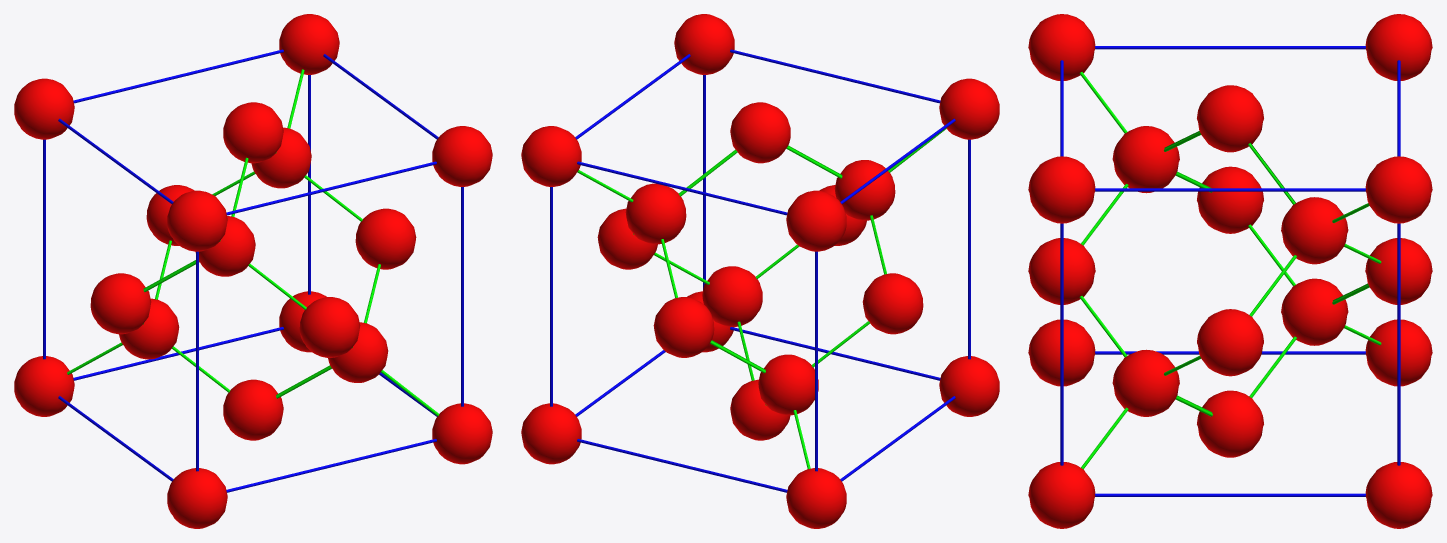
Rendered from Kristallgitter.glb.
The picture shows the model from 3 angles, left to right: view 1: azimuth 30°, elevation 25°; view 2: azimuth 150°, elevation 25°; view 3: azimuth 270°, elevation 25°; orthographic projection. The views are drawn at different scales.
Parts seen in each view (by area): view 1: 101, 9F, A7, A3, CA, 125, F1, 121, AF, F9, B3, 11D (+14 smaller); view 2: CA, F9, 125, 129, B3, 11D, AB, 12D, 101, A7, F1, 9B (+14 smaller); view 3: F1, 11D, 121, 125, AB, AF, 9B, 12D, F9, A3, 101, 97 (+12 smaller).
Part boxes in pixels (x1,y1,x2,y2): 101: (167,190,227,251); 9F: (299,297,360,357); A7: (167,468,227,528); A3: (223,379,283,440); CA: (90,273,151,334); 125: (223,102,283,163); F1: (432,126,492,186); 121: (355,208,416,269); AF: (432,403,492,464); F9: (14,78,74,139); B3: (14,356,74,416); 11D: (279,14,339,74); CA: (862,273,923,334); F9: (786,190,846,251); 125: (730,102,790,163); 129: (653,297,714,357); B3: (786,468,846,528); 11D: (521,126,581,186); AB: (521,403,581,464); 12D: (625,183,686,244); 101: (939,78,999,139); A7: (939,356,999,416); F1: (674,14,734,74); 9B: (702,266,762,326); F1: (1028,156,1095,223); 11D: (1365,156,1432,223); 121: (1197,309,1263,376); 125: (1197,85,1263,152); AB: (1365,462,1432,528); AF: (1028,462,1095,528); 9B: (1112,349,1179,416); 12D: (1281,197,1348,264); F9: (1365,14,1432,80); A3: (1197,390,1263,457); 101: (1028,14,1095,80); 97: (1281,278,1348,345).
Bounding box in the file's own units: 12 × 12 × 12.
